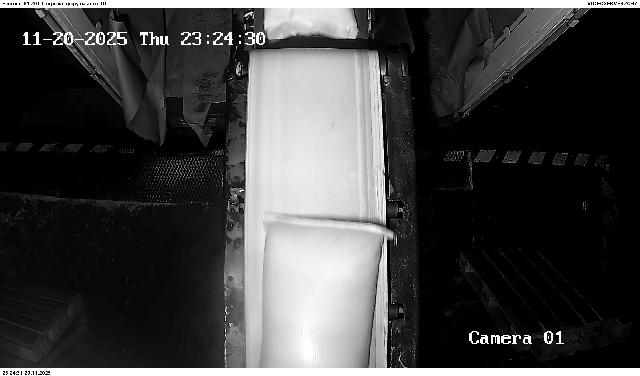bag: (259, 212, 394, 366), (264, 8, 359, 41)
